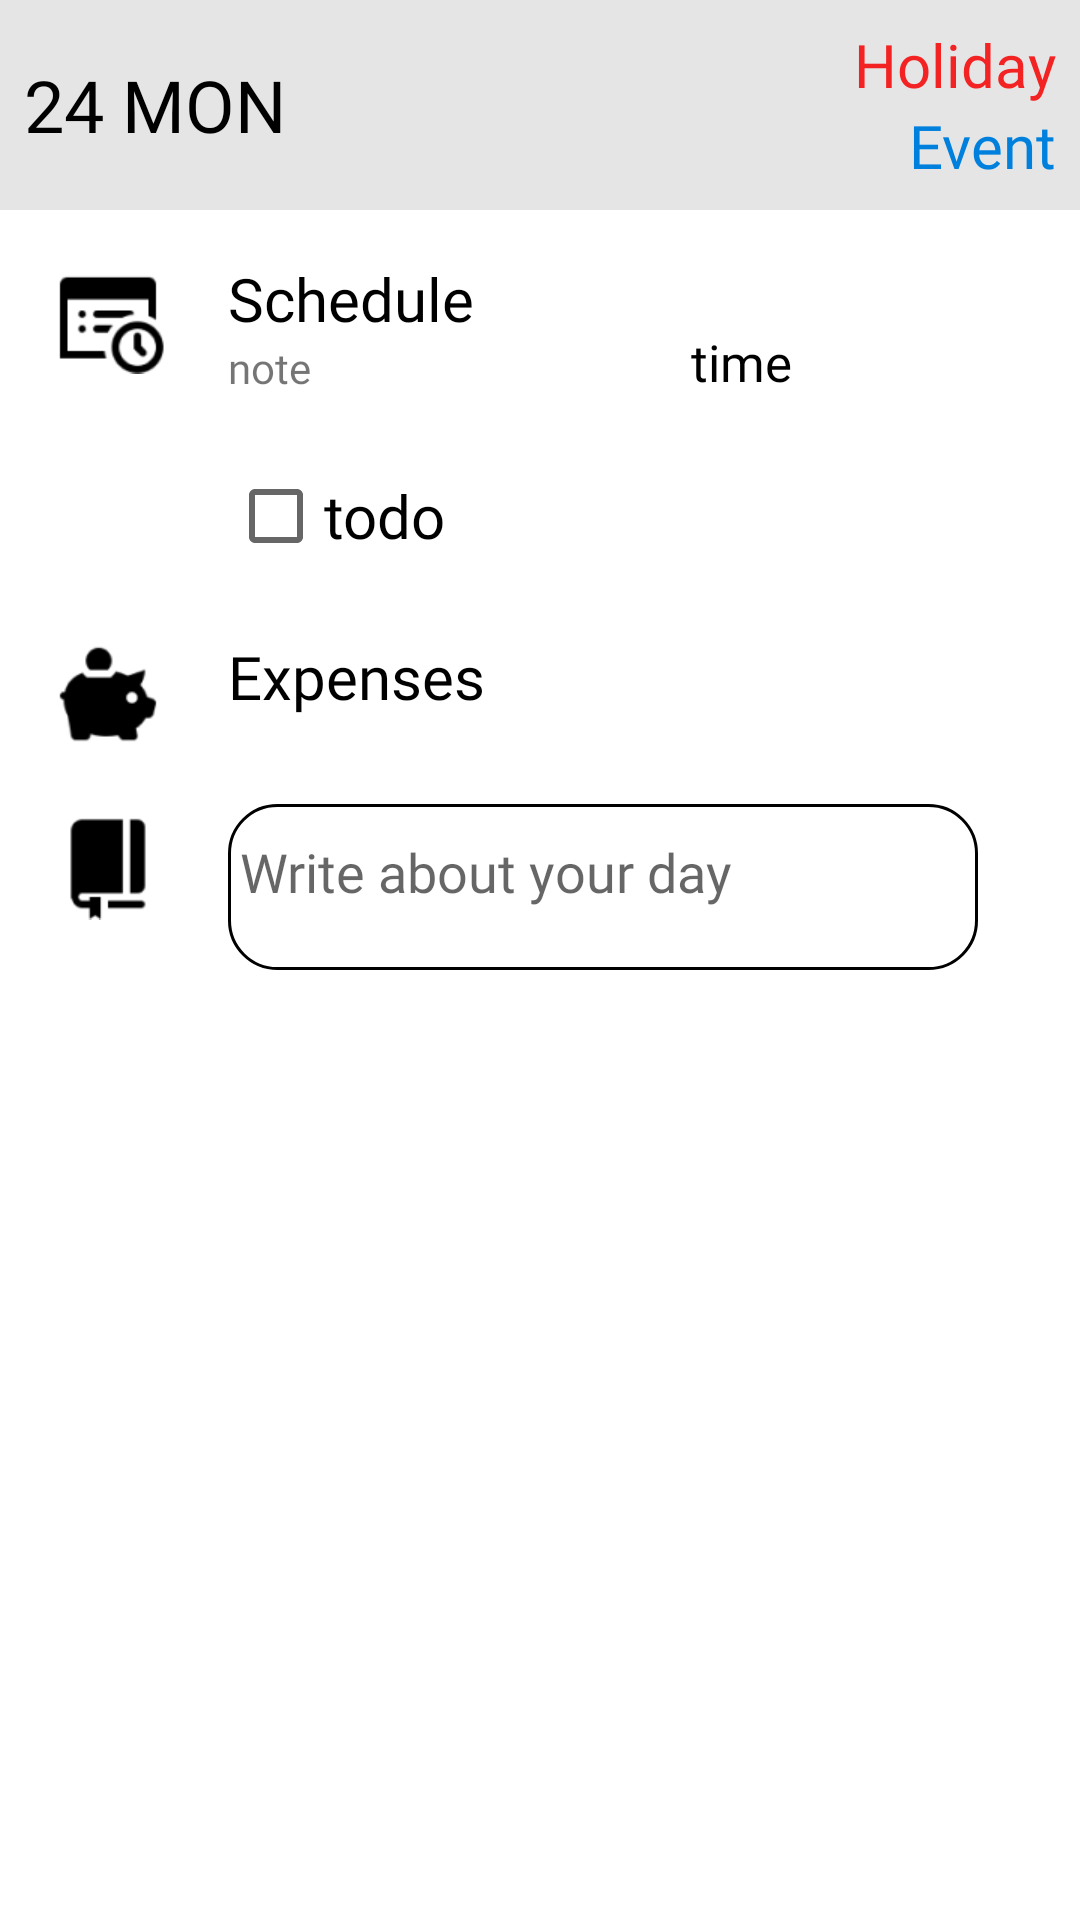

Where to tap for icons on this 1080px x 1920px app screen, as [x,y]:
exp inc: [108,694]
